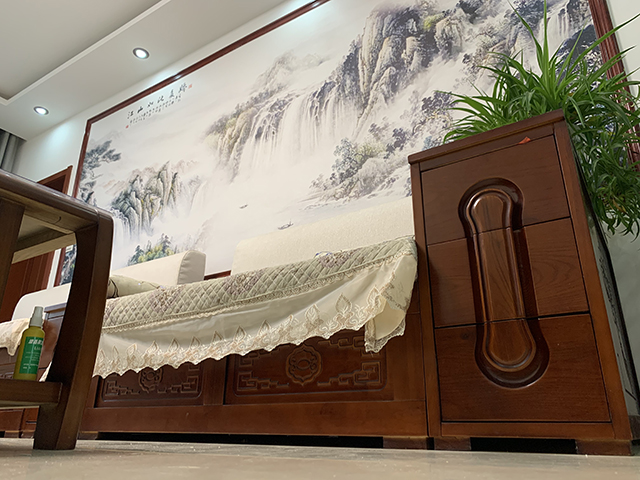cabinet: (407, 107, 640, 457)
sofa: (1, 185, 430, 452)
table: (1, 169, 115, 451)
